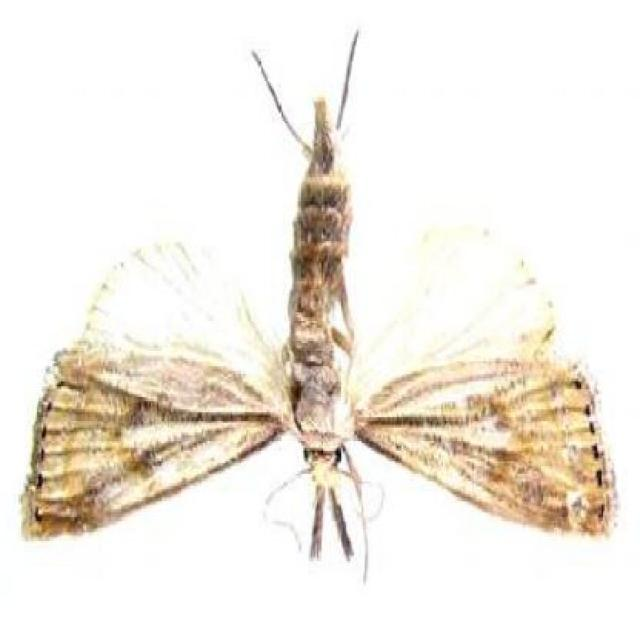stem-borer: (20, 31, 617, 583)
